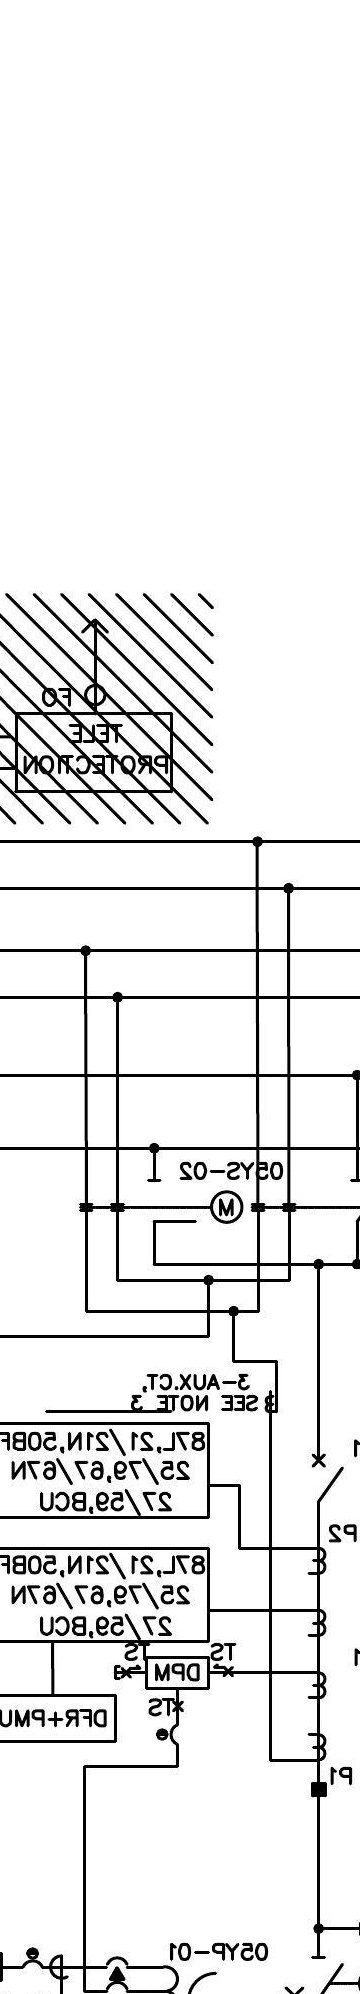115_1way_ds_w_motor: (146, 1178, 244, 1225)
115_breaker: (312, 1452, 345, 1503)
DPM: (144, 1654, 211, 1691)
tele_protection: (13, 710, 176, 796)
